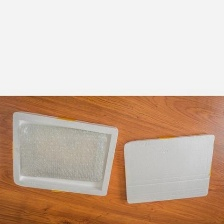foam_box: (5, 107, 122, 200), (119, 130, 217, 206)
